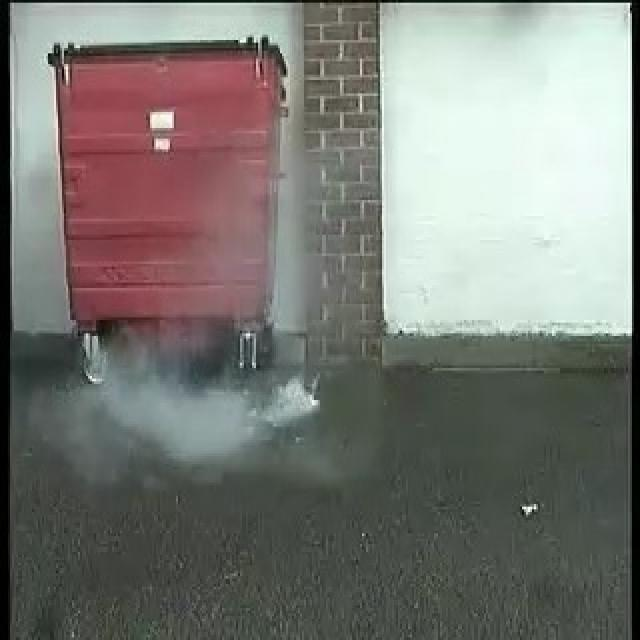smoke: (105, 346, 321, 452)
